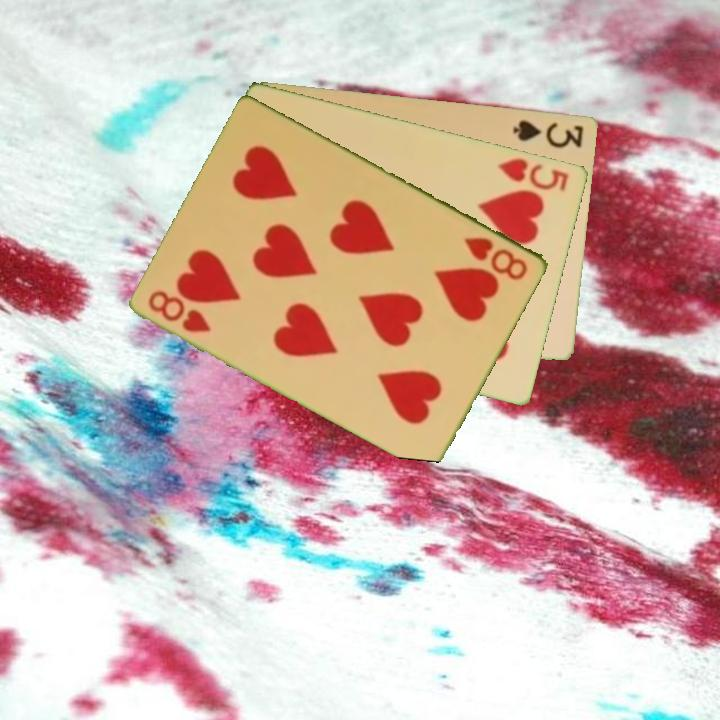3s: (510, 116, 587, 151)
5h: (495, 154, 572, 194)
8h: (461, 233, 532, 283), (145, 286, 215, 336)
